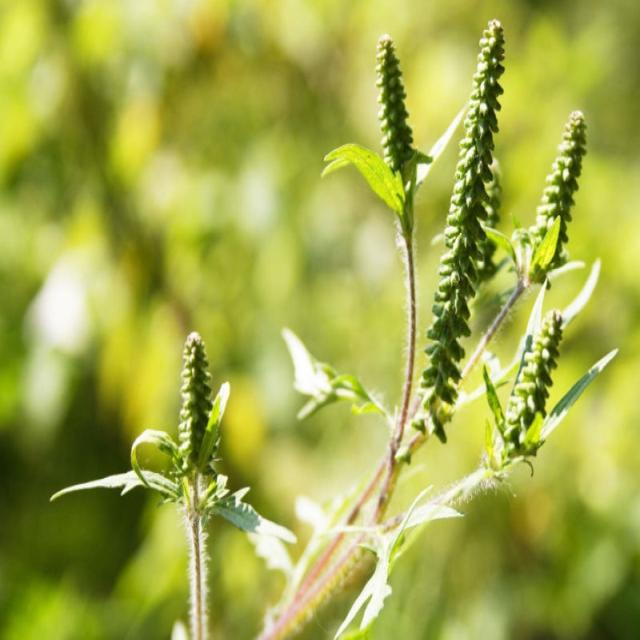ambrosia: (428, 16, 512, 450), (120, 334, 254, 591), (516, 85, 602, 477), (362, 6, 418, 227)
